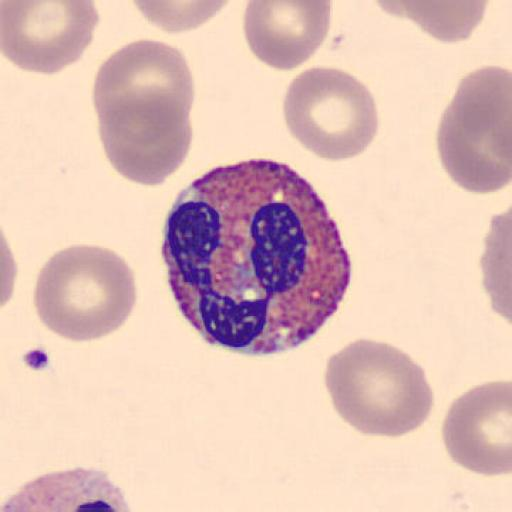RBC: (90, 37, 194, 187), (322, 336, 436, 440), (32, 242, 139, 345), (95, 86, 194, 188), (436, 64, 512, 194), (280, 65, 381, 162), (1, 0, 101, 76), (439, 380, 512, 478), (241, 0, 334, 72), (0, 465, 139, 511), (378, 0, 492, 44), (478, 204, 512, 328), (129, 0, 236, 35), (0, 226, 18, 313), (370, 0, 429, 20)
WBC: (162, 156, 354, 356), (0, 465, 135, 512)
